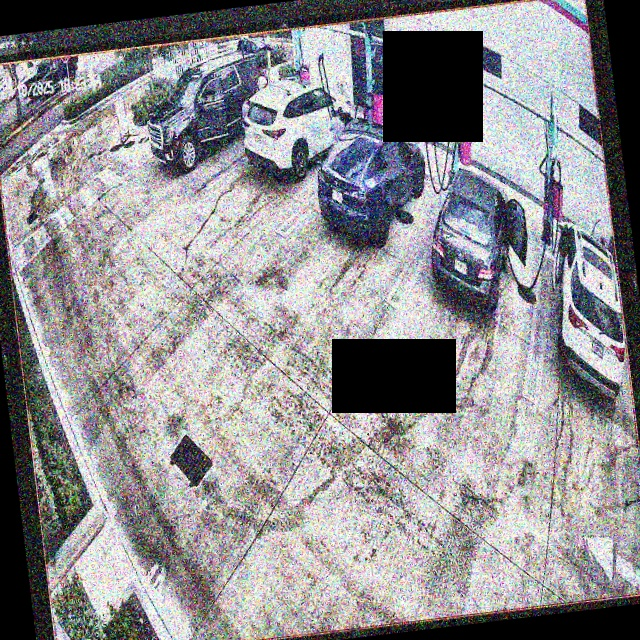Car: (420, 161, 536, 325), (142, 50, 278, 172), (312, 114, 431, 239), (238, 69, 358, 180)
